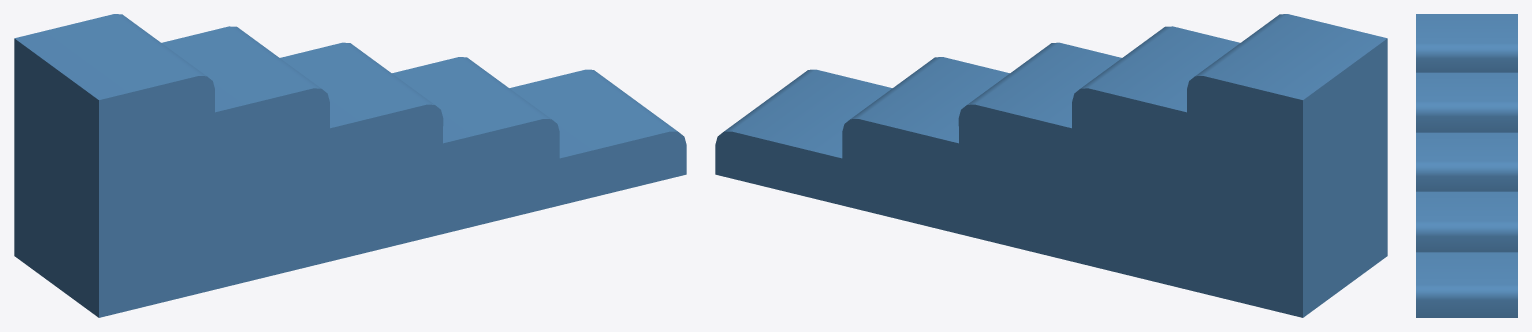
Rendered from Tribune Clear Part.fbx.
The picture shows the model from 3 angles, left to right: view 1: azimuth 30°, elevation 25°; view 2: azimuth 150°, elevation 25°; view 3: azimuth 270°, elevation 25°; orthographic projection. The views are drawn at different scales.
Visible parts, largest first — view 1: Tribune Clear Part; view 2: Tribune Clear Part; view 3: Tribune Clear Part.
Boxes of the visible parts, x1,y1,x2,y2 form: Tribune Clear Part: (14,14,686,317); Tribune Clear Part: (715,14,1387,317); Tribune Clear Part: (1416,14,1517,317).
Bounding box in the file's own units: 731 × 259 × 182.
